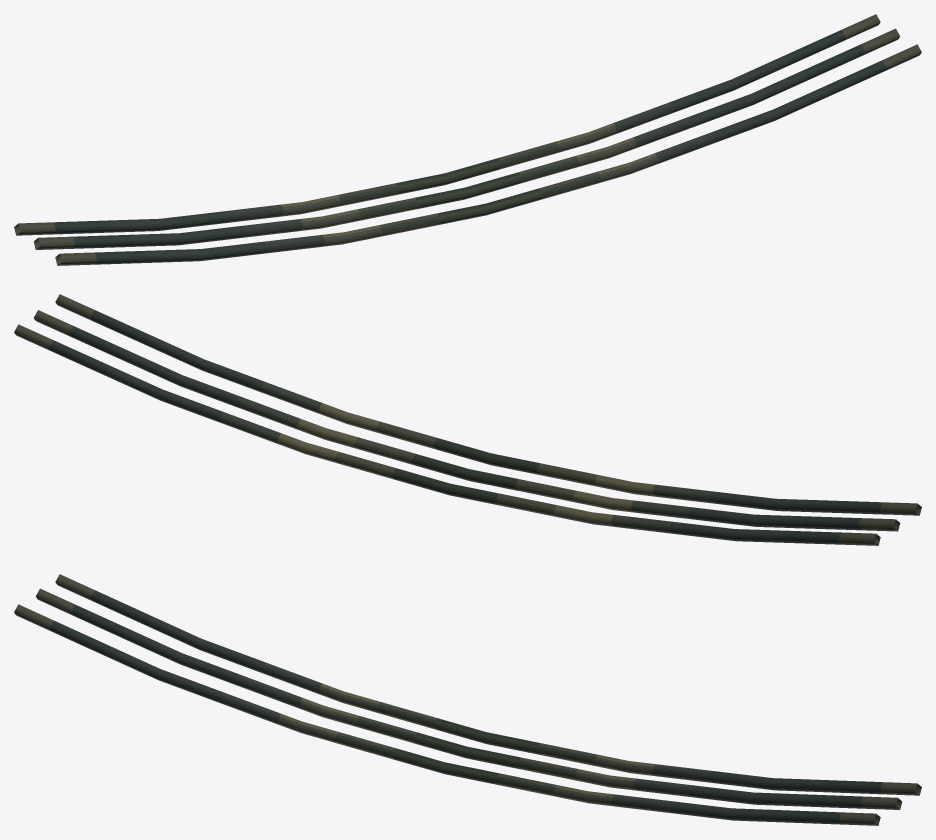
The picture shows the model from 3 angles, top to bottom: view 1: azimuth 30°, elevation 25°; view 2: azimuth 150°, elevation 25°; view 3: azimuth 330°, elevation 25°; orthographic projection.
Parts seen in each view (by area): view 1: Object012; view 2: Object012; view 3: Object012.
Part boxes in pixels (x1=…): Object012: x1=14, y1=14, x2=921, y2=265; Object012: x1=14, y1=294, x2=921, y2=545; Object012: x1=14, y1=574, x2=921, y2=825.
Bounding box in the file's own units: 694 × 50.65 × 66.7.
